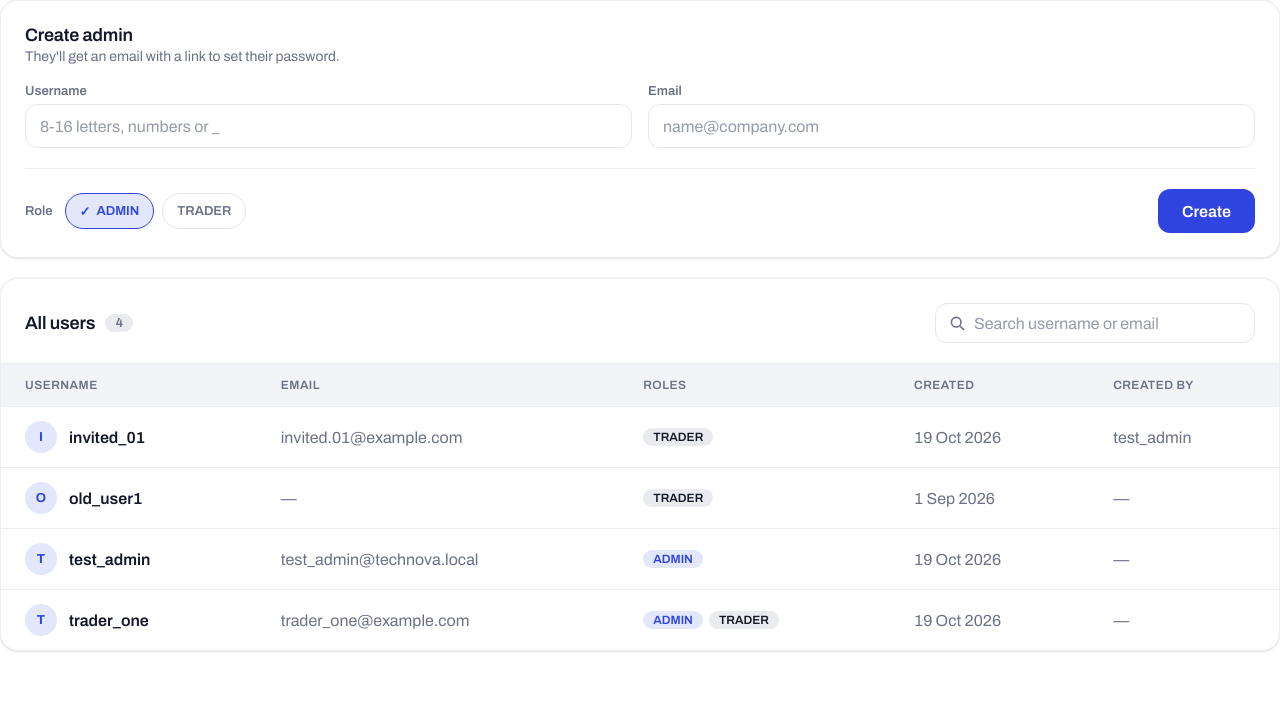
Test: AdminUsersComponent › search › says when nothing matches, naming the search
The width and height of the screenshot is (1280, 720).
Type "nobody" into the search field with id "user-search" at [1095, 323], box left=935, top=303, right=1255, bottom=343
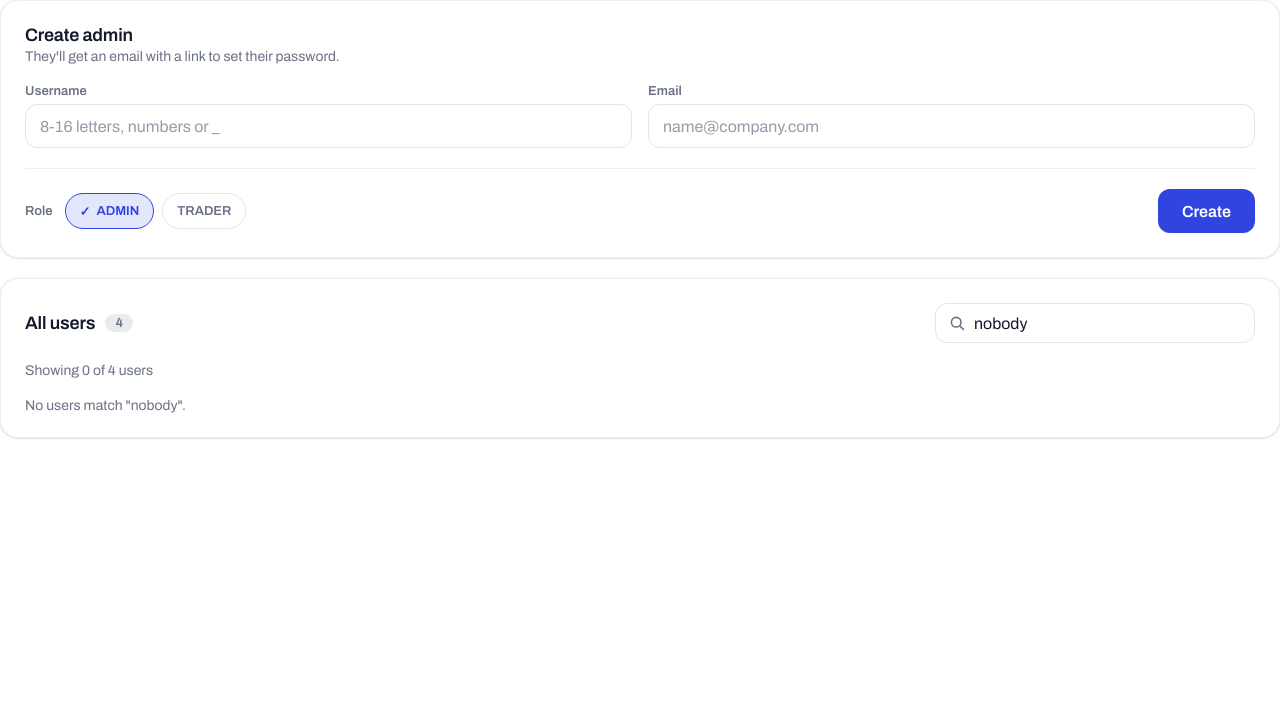
Expected: the text "No users match \"nobody\"." is shown, left=25, top=398, right=186, bottom=413
